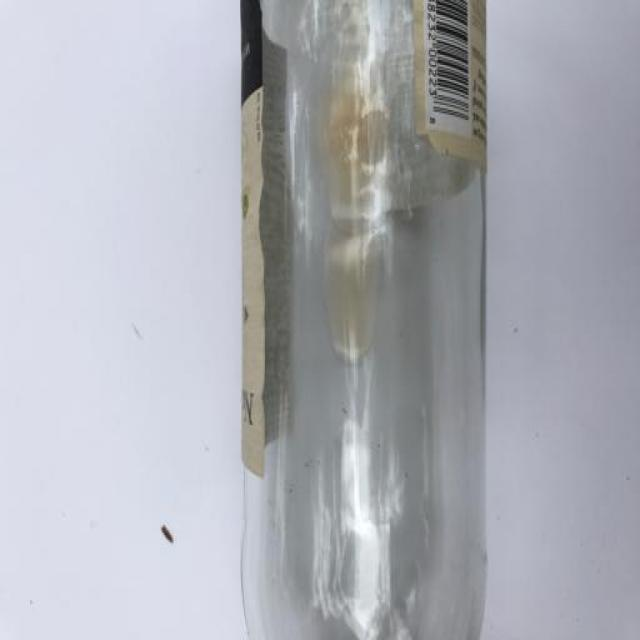Waste: (241, 0, 488, 640)
